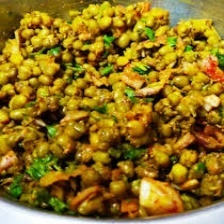sabzi: (3, 4, 224, 220)
